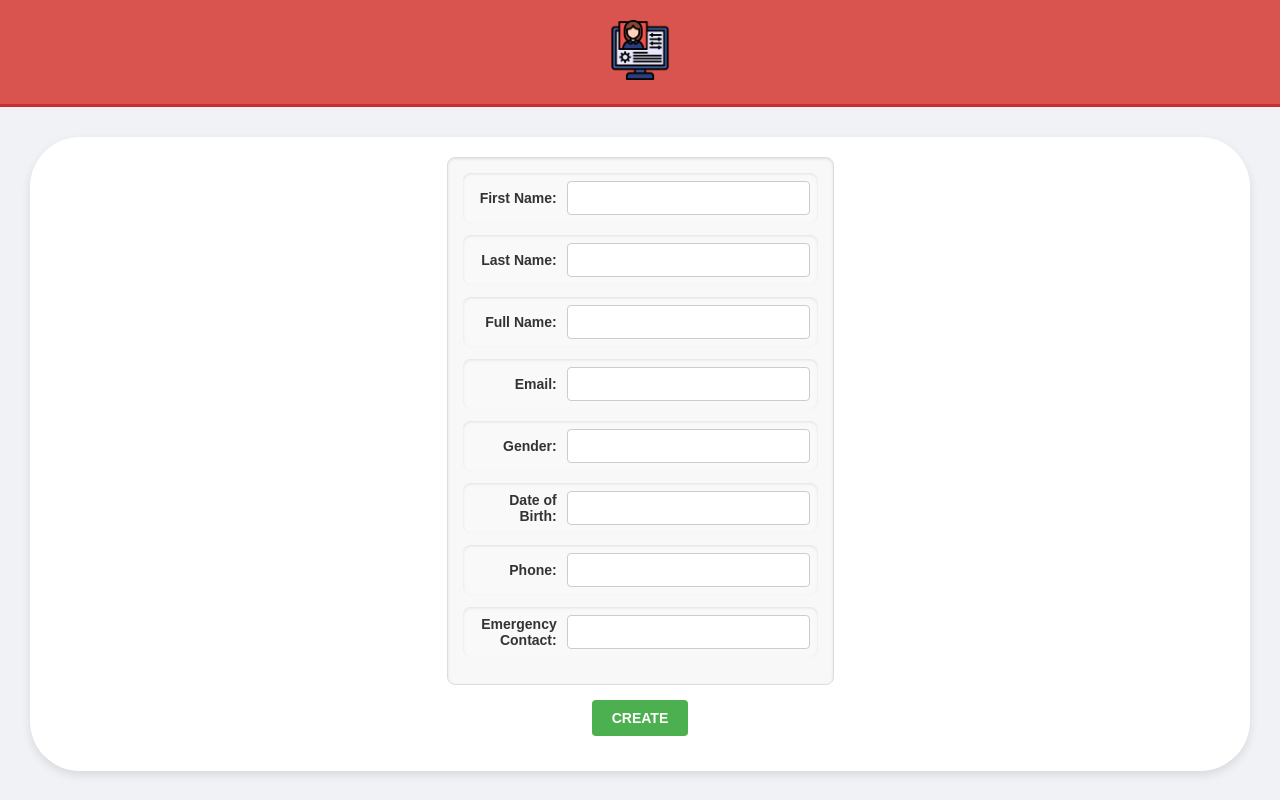
Test: Admin Create Patient Panel › should display an error if required fields are missing
This screenshot has width=1280, height=800.
Step 1. Type "Doe" into the field with id "input2" → (689, 260), box [567,243,810,277]
Step 2. Type "John Doe" into the field with id "input3" → (689, 322), box [567,305,810,339]
Step 3. Type "johndoe@example.com" into the field with id "input4" → (689, 384), box [567,367,810,401]
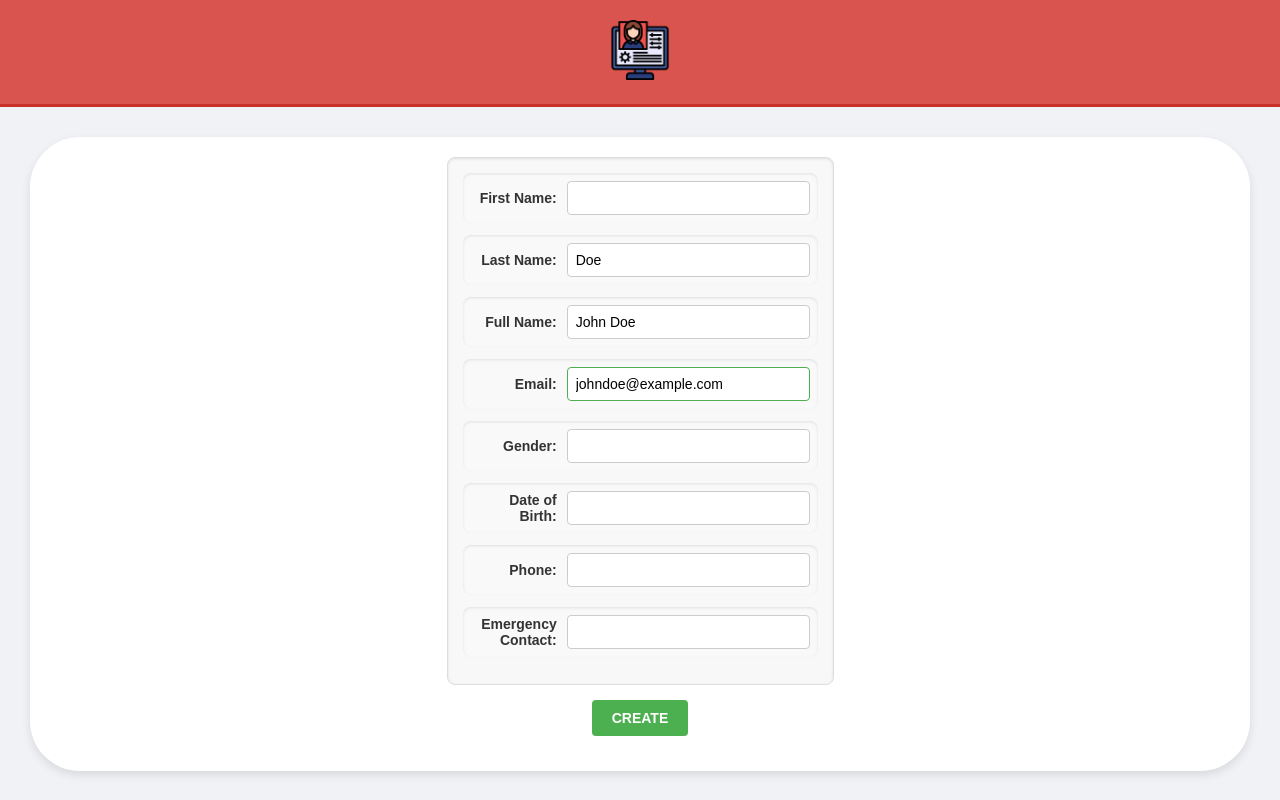
Step 4. Type "Male" into the field with id "input5" → (689, 446), box [567,429,810,463]
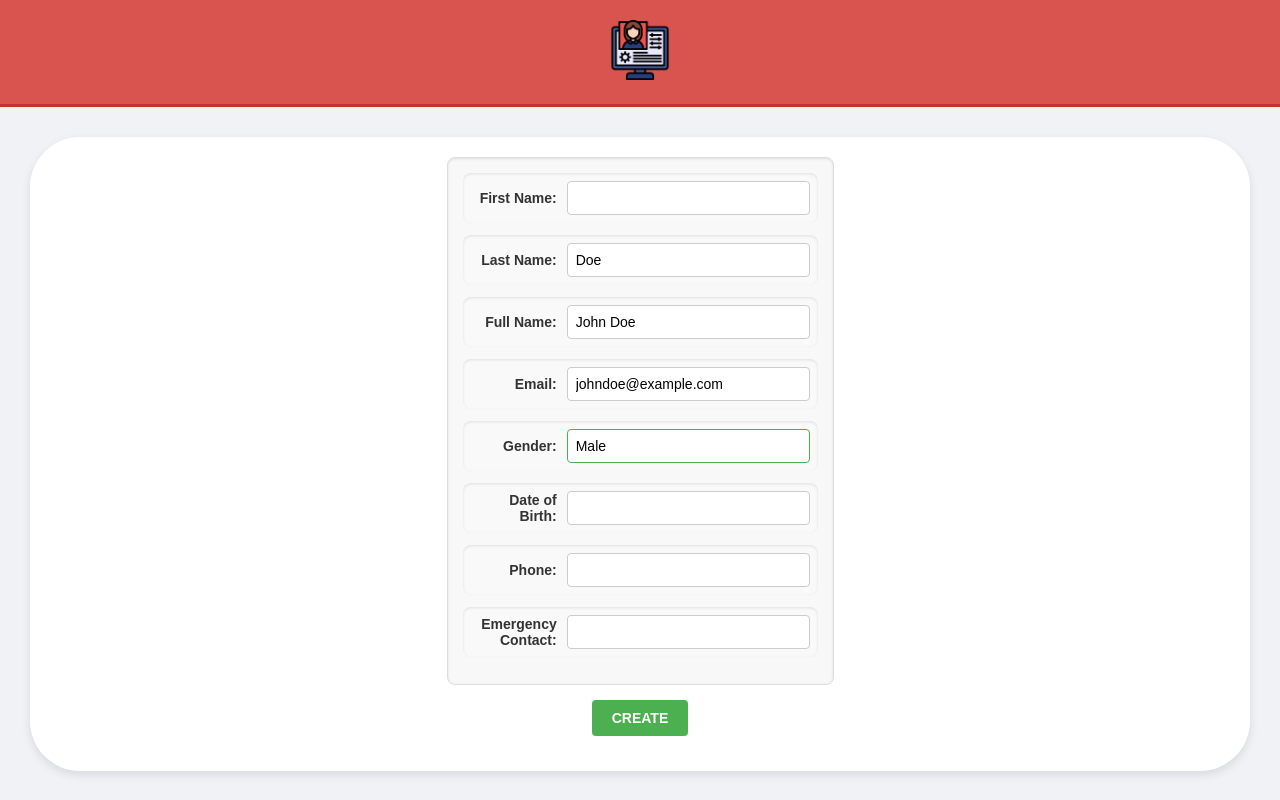
Step 5. Type "1980-01-01" into the field with id "input6" → (689, 508), box [567,491,810,525]
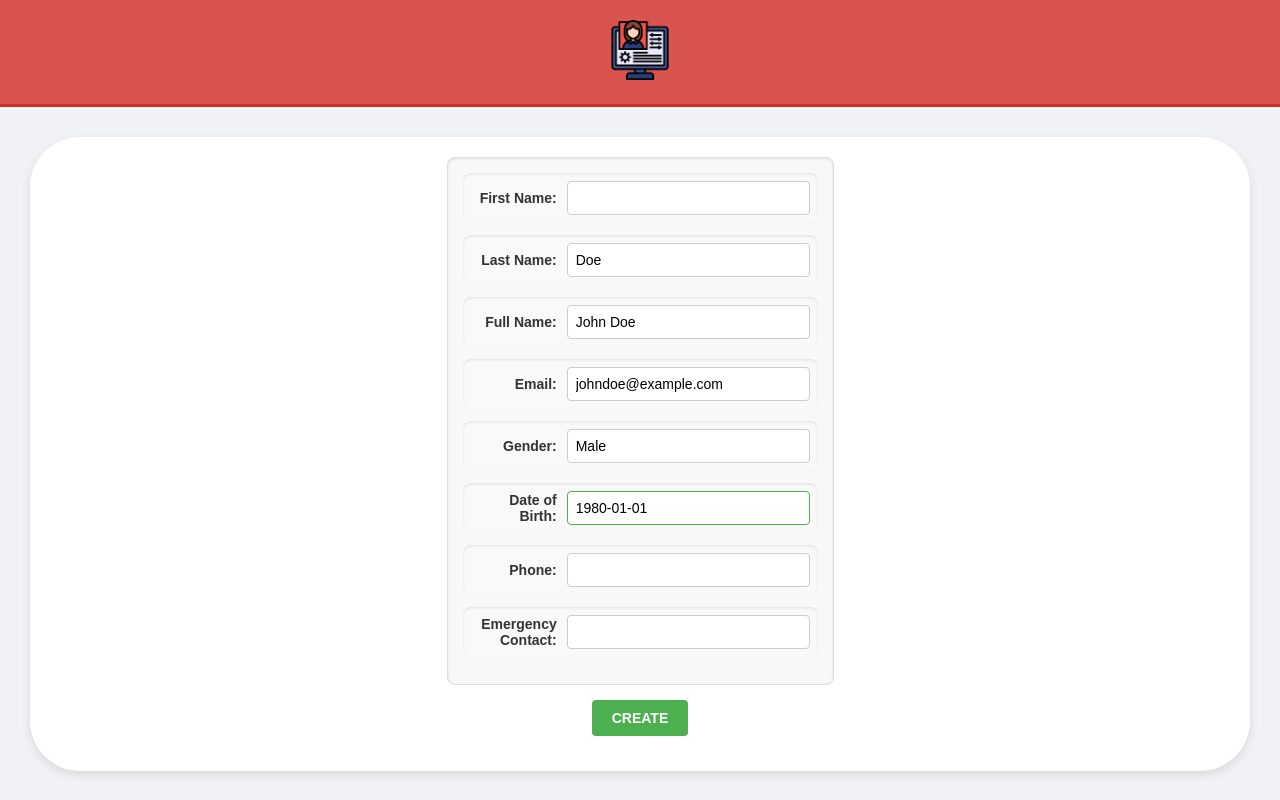
Step 6. Type "919505991" into the field with id "input7" → (689, 570), box [567,553,810,587]
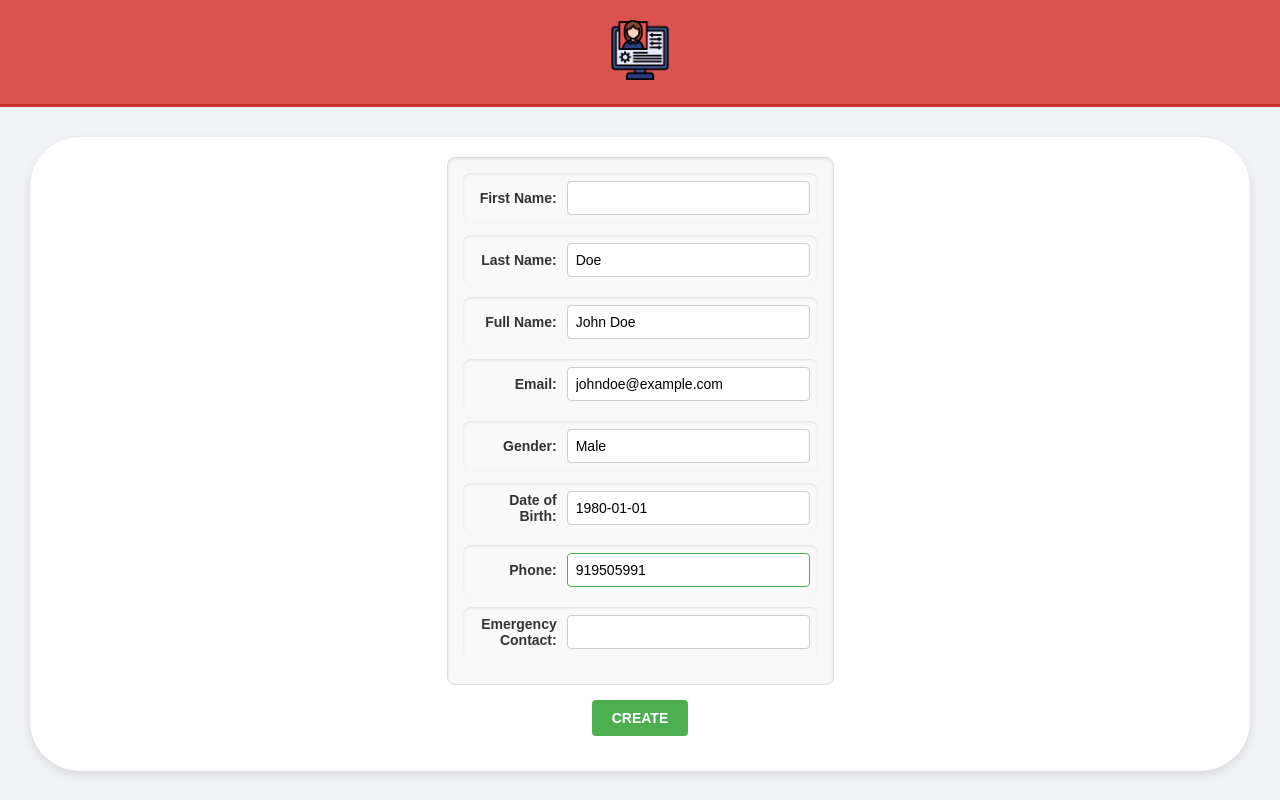
Step 7. Type "919505891" into the field with id "input8" → (689, 632), box [567,615,810,649]
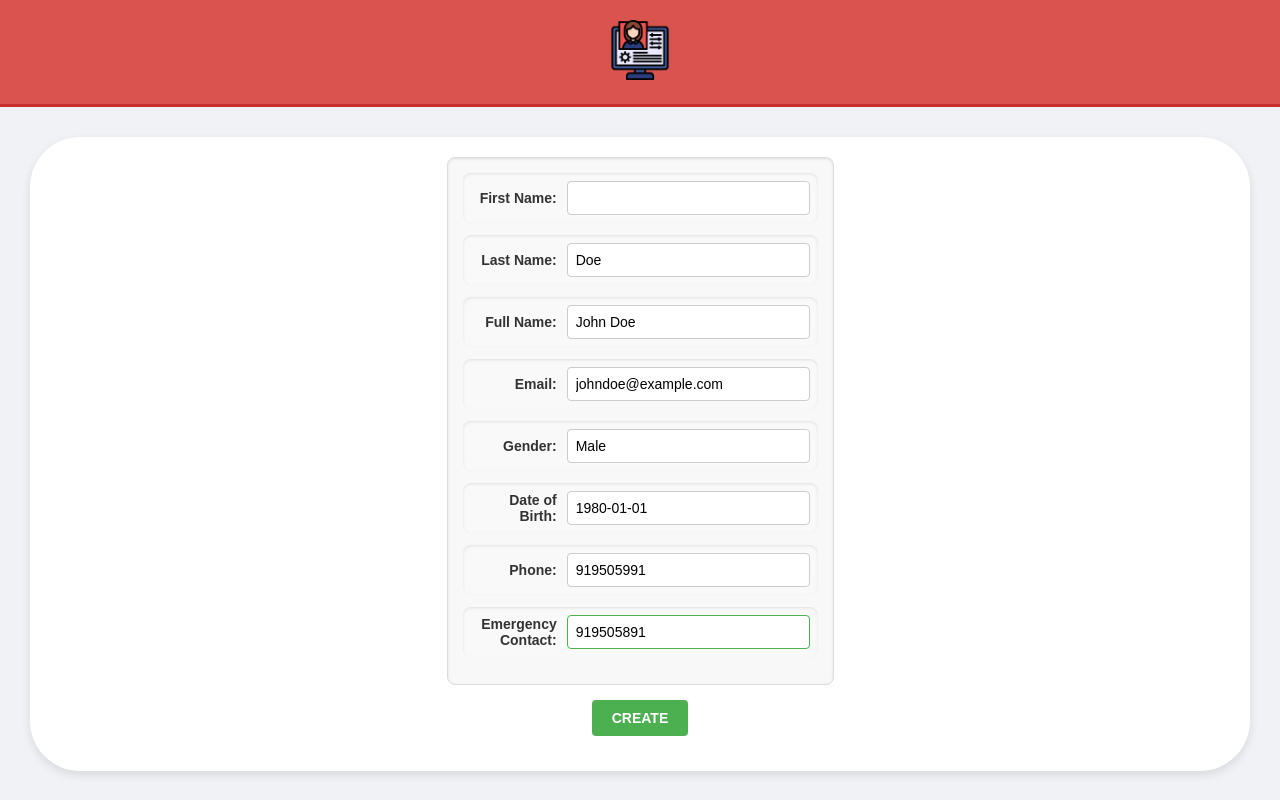
// Click the 'CREATE' button
Step 8. Click the button with class "update" → (641, 718), box [592,700,689,736]
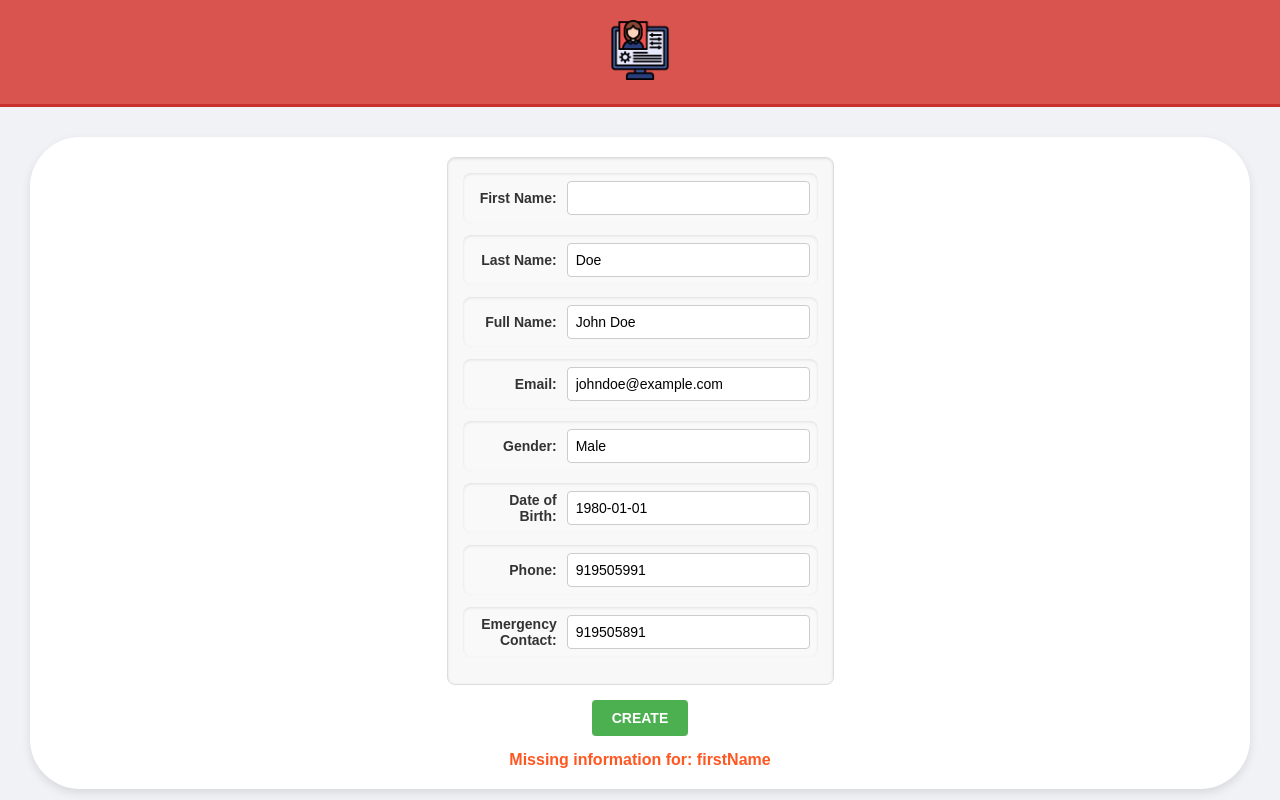
Check: the text "Missing information for:" is shown, box [509,751,770,768]
